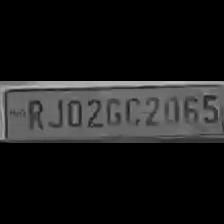0: (64, 96, 82, 128), (162, 93, 180, 125)
2: (83, 94, 103, 128), (140, 93, 160, 127)
5: (199, 90, 219, 126)
6: (180, 92, 198, 124)
C: (122, 94, 140, 125)
G: (102, 94, 122, 125)
J: (46, 96, 64, 128)
R: (23, 96, 45, 132)
